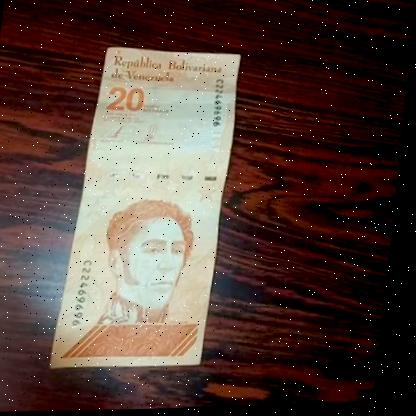twenty-front-vef: (54, 45, 243, 371)
